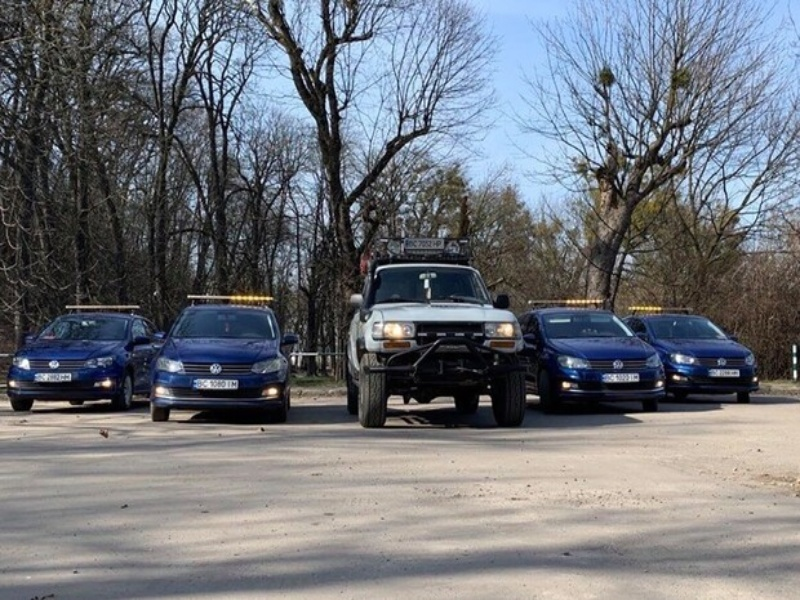car: (345, 239, 526, 427), (151, 294, 302, 423), (6, 303, 166, 410), (519, 309, 666, 409), (617, 312, 759, 403)
plate: (192, 378, 238, 389), (34, 373, 71, 382), (603, 373, 640, 382), (708, 368, 740, 378)
